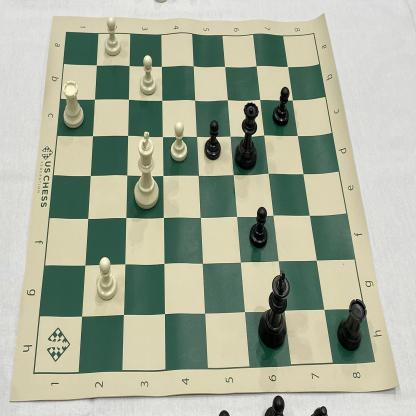black-king: (257, 266, 291, 353)
black-pawn: (247, 204, 271, 250), (203, 117, 224, 163), (271, 83, 292, 127)
black-queen: (232, 100, 261, 173)
black-rook: (336, 296, 368, 355)
white-king: (130, 128, 162, 211)
white-pawn: (93, 253, 118, 304), (100, 15, 124, 58), (137, 53, 159, 98), (168, 119, 190, 164)
white-rook: (59, 78, 87, 130)
